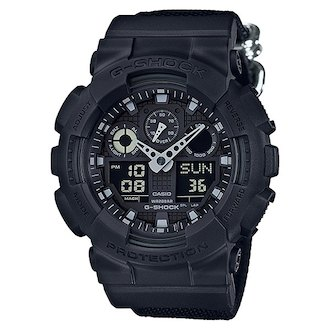clock: (78, 77, 239, 239)
